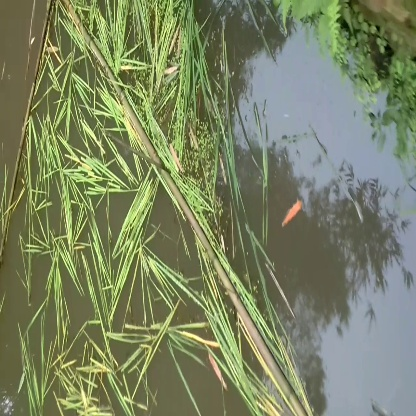branch: (110, 87, 312, 416)
